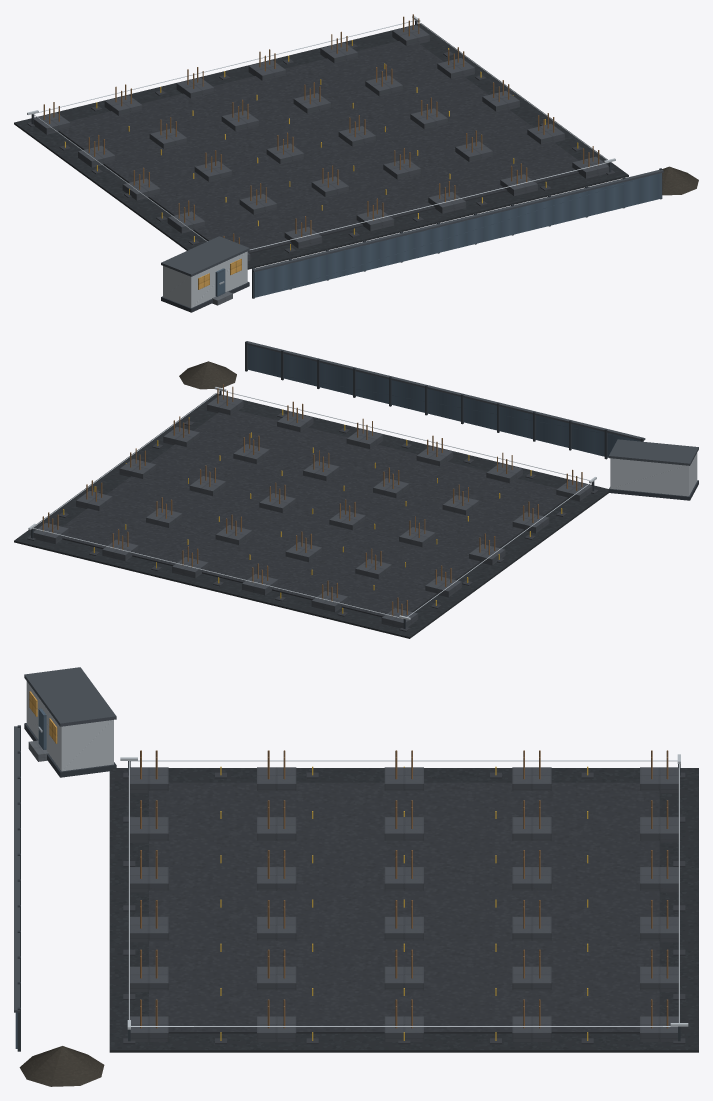
File: trg-1-site.glb
The picture shows the model from 3 angles, top to bottom: view 1: azimuth 30°, elevation 25°; view 2: azimuth 150°, elevation 25°; view 3: azimuth 270°, elevation 25°; orthographic projection. The views are drawn at different scales.
Bounding box in the file's own units: 44.02 × 3.1 × 34.87.
17 materials, 9 textured.
